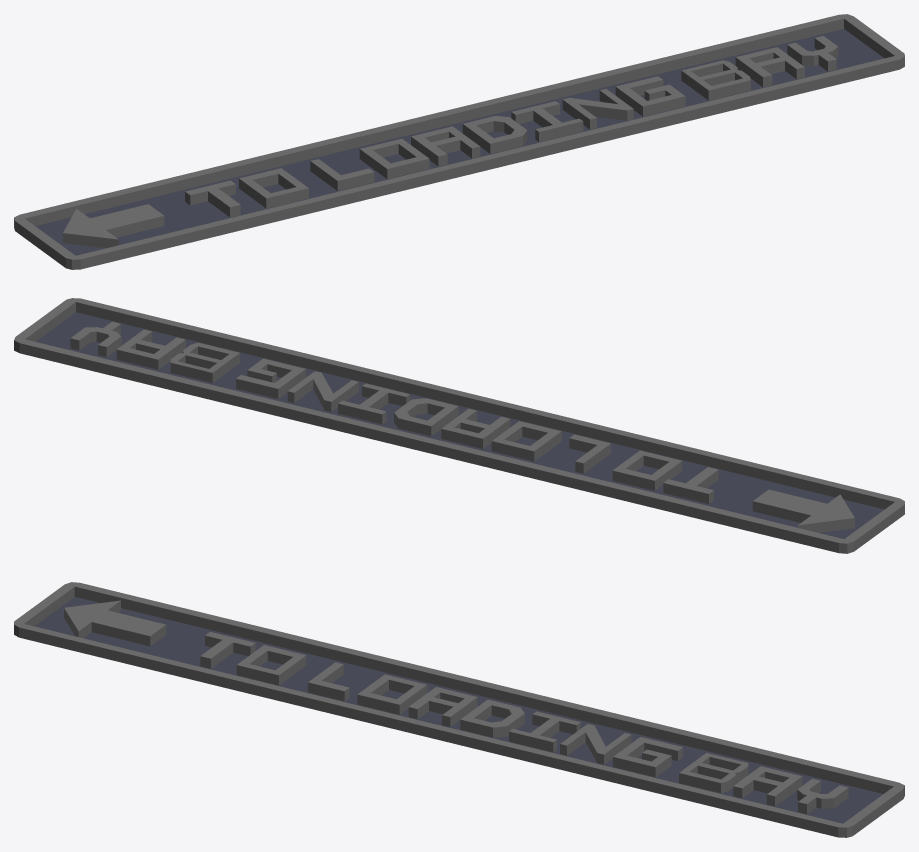
File: mdlToLoadingBaySign.fbx
3 renders of one model, top to bottom at view 1: azimuth 30°, elevation 25°; view 2: azimuth 150°, elevation 25°; view 3: azimuth 330°, elevation 25°, orthographic.
Visible parts, largest first — view 1: ToLoadingBaySign; view 2: ToLoadingBaySign; view 3: ToLoadingBaySign.
Part boxes in pixels (x1,y1,x2,y2): ToLoadingBaySign: (14, 14, 904, 269); ToLoadingBaySign: (14, 298, 904, 553); ToLoadingBaySign: (14, 582, 904, 837).
Size of the model in its own units: 9.33 by 0.1084 by 1.18.
1 material, 1 textured.
